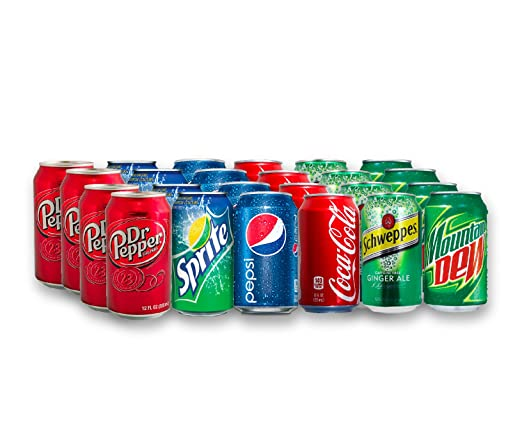coke: (299, 192, 362, 317)
